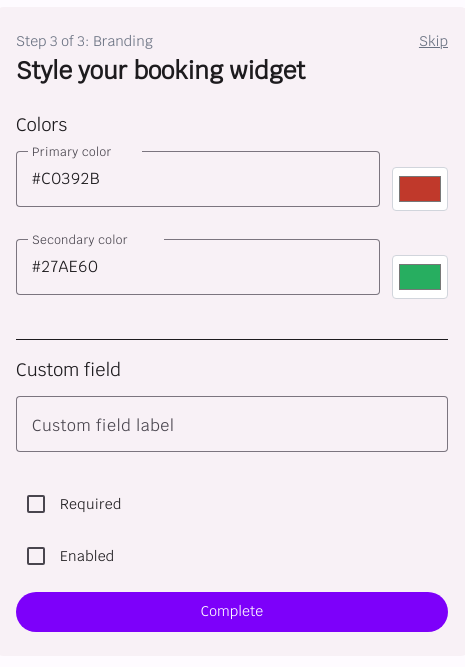
Test: BrandingPageComponent › Complete (AC: 5) › [P1] should show the save error and not navigate when the update fails
The width and height of the screenshot is (465, 667).
What coordinates should you click on to do the following:
click the button with test id "complete-button"
I would click on:
 (232, 612)
Its box is [16,592,448,632].
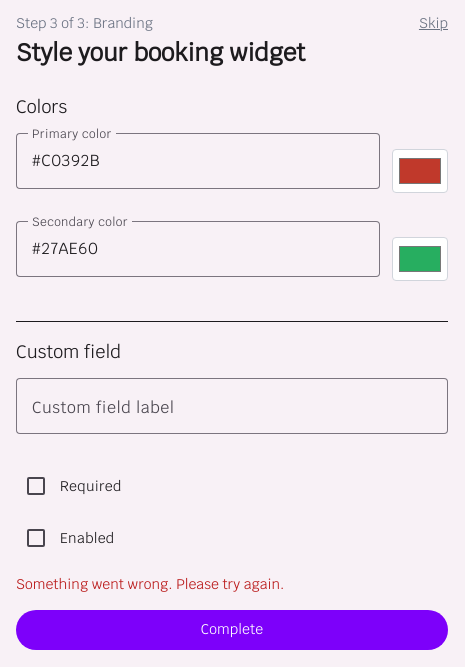
expect the message "Something went wrong. Please try again." is shown: met, box [16,574,284,592]
